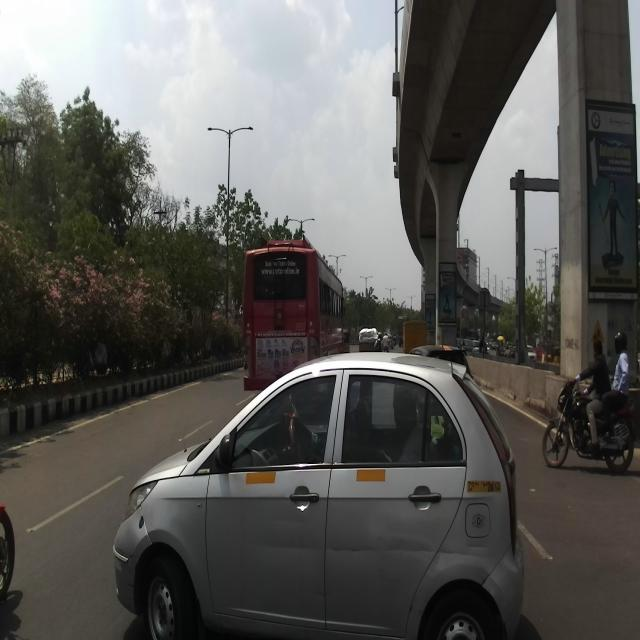Car_TATA: (111, 349, 526, 636)
bus: (242, 232, 346, 394)
motorcycle_HeroHonda: (540, 377, 637, 474)
